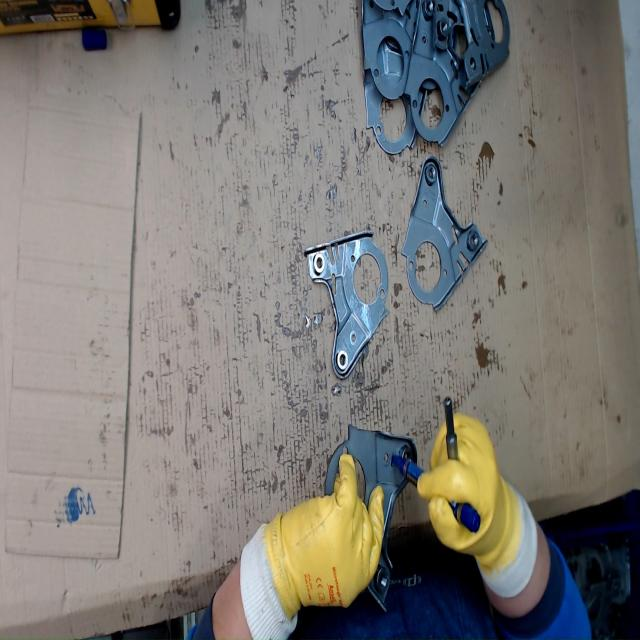hands: (270, 452, 386, 609), (416, 412, 518, 572)
